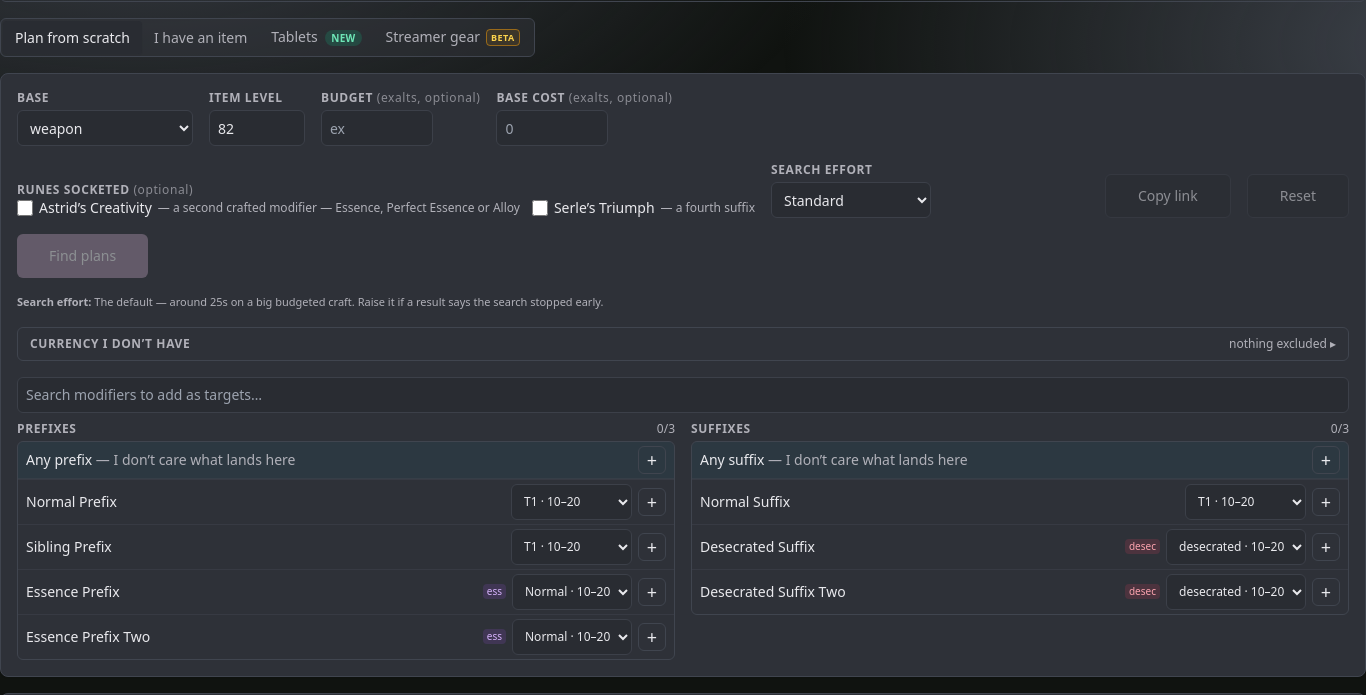
Test: EngineLab — the true cost of a craft from scratch › renders an unfinished from-white solve as a ceiling, not a floor
This screenshot has width=1366, height=695.
Check: the field with placeholder "Search modifiers to add as targets…" is shown, box [17,377,1349,413]
Click the button "+" in the row of "Normal Prefix".
click(652, 502)  # box [638,488,666,516]
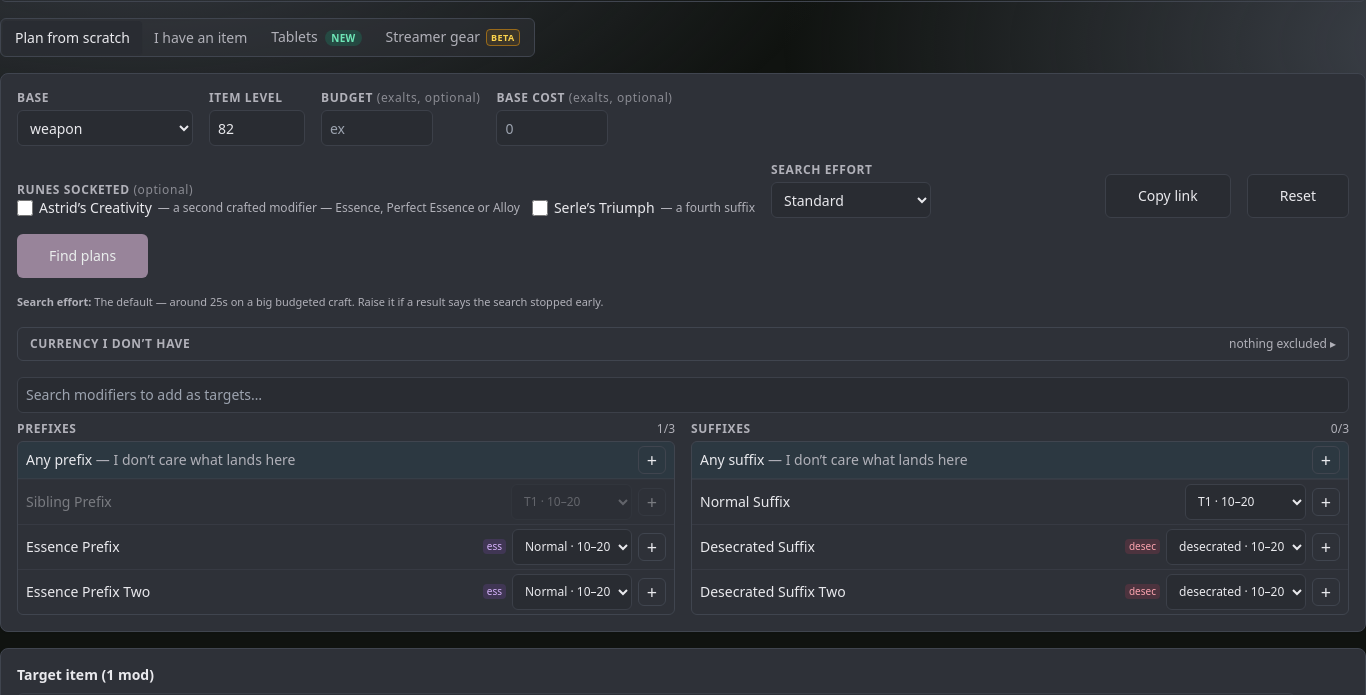
Click the button "Find plans".
click(83, 256)  # box [17,234,148,278]
(page scrolled)
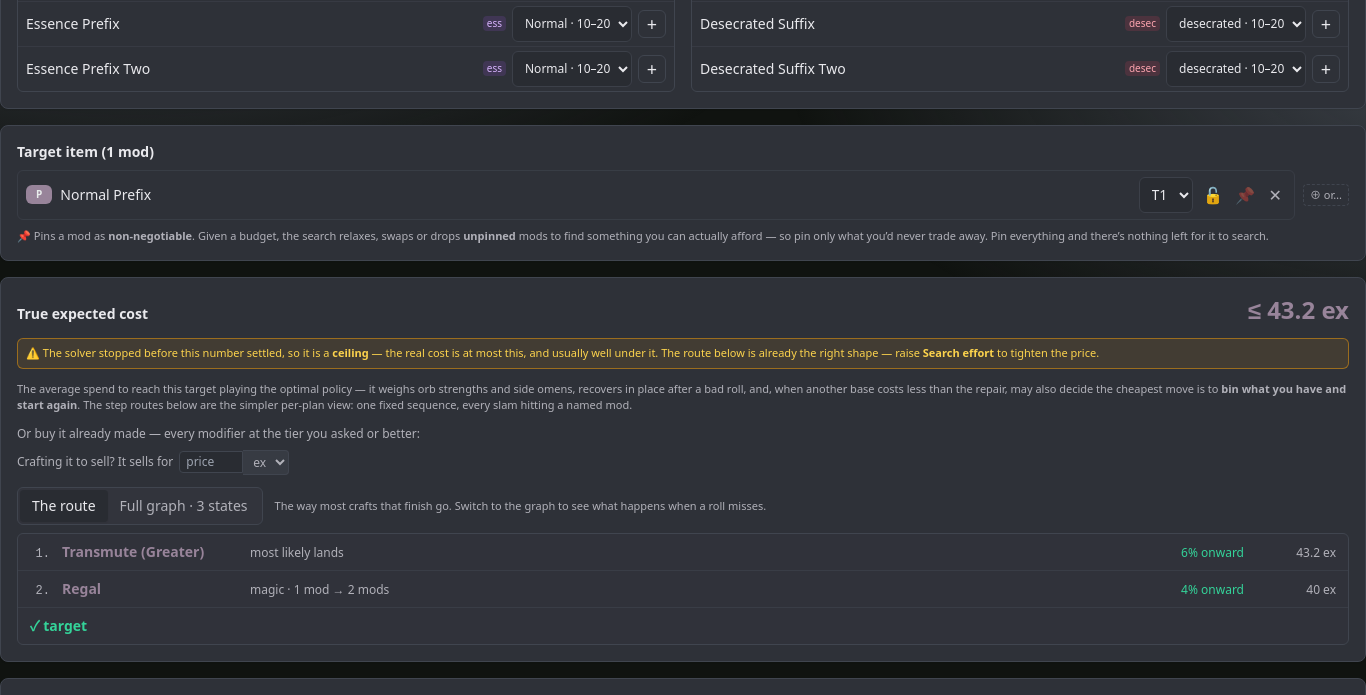
Check: the text "≤ 43.2 ex" is shown, box [1248,294,1349,326]
Check: the text "ceiling" is shown, box [332,345,369,360]
